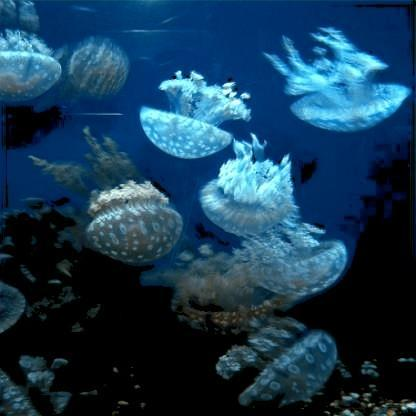LightHouse: (31, 131, 185, 263), (264, 27, 412, 132), (157, 245, 279, 335), (214, 322, 338, 408), (198, 138, 298, 238), (140, 70, 250, 160), (4, 201, 114, 287), (24, 266, 124, 356), (237, 218, 345, 294), (2, 2, 66, 104), (3, 356, 97, 412), (62, 37, 128, 105), (0, 282, 29, 334)
